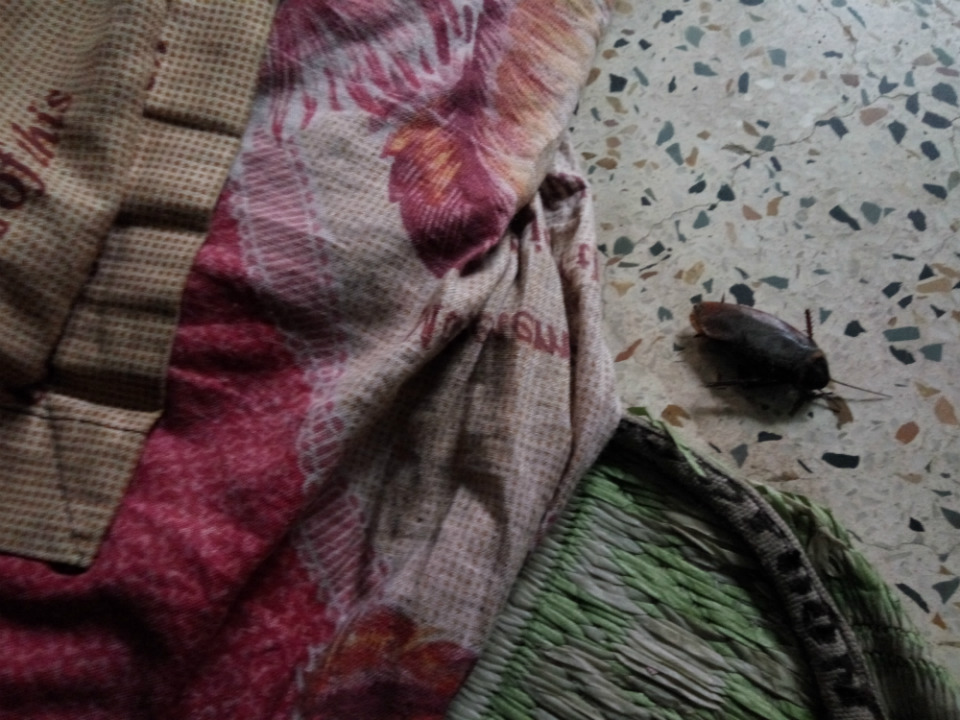cockroach: (659, 274, 935, 453)
